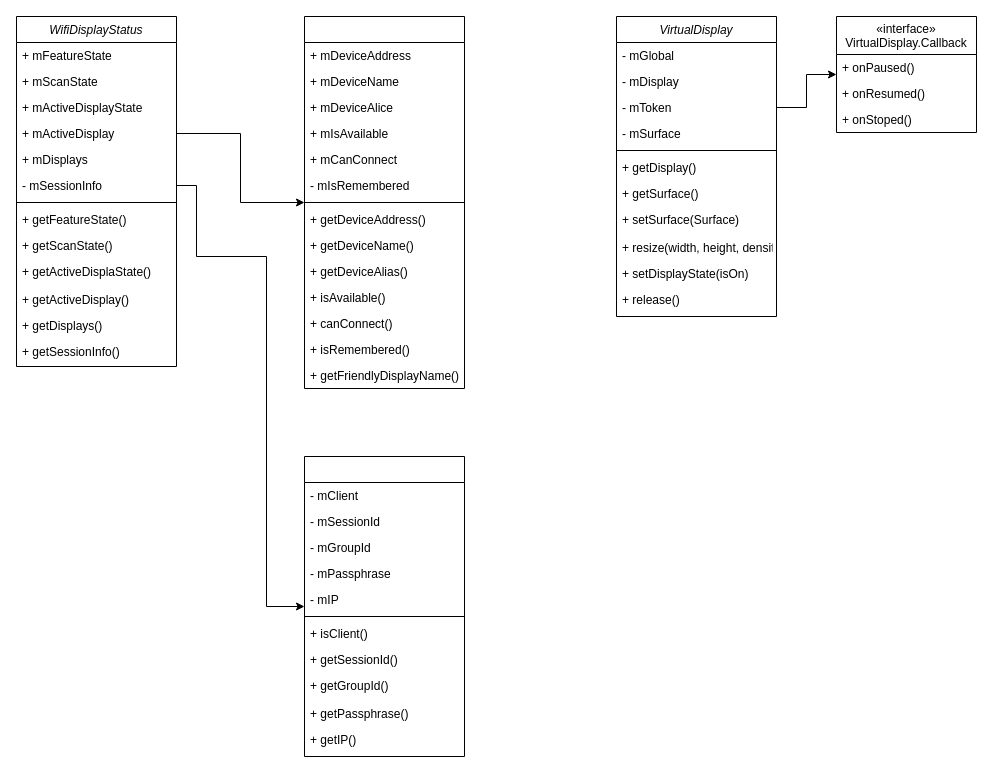
This 993x773 diagram has some shape labels left out. The box of each missing label's shape, as (x1, y1, x2, y2) in pixels:
WifiDisplay: (304, 16, 464, 388)
WifiSessionInfo: (304, 456, 464, 756)
